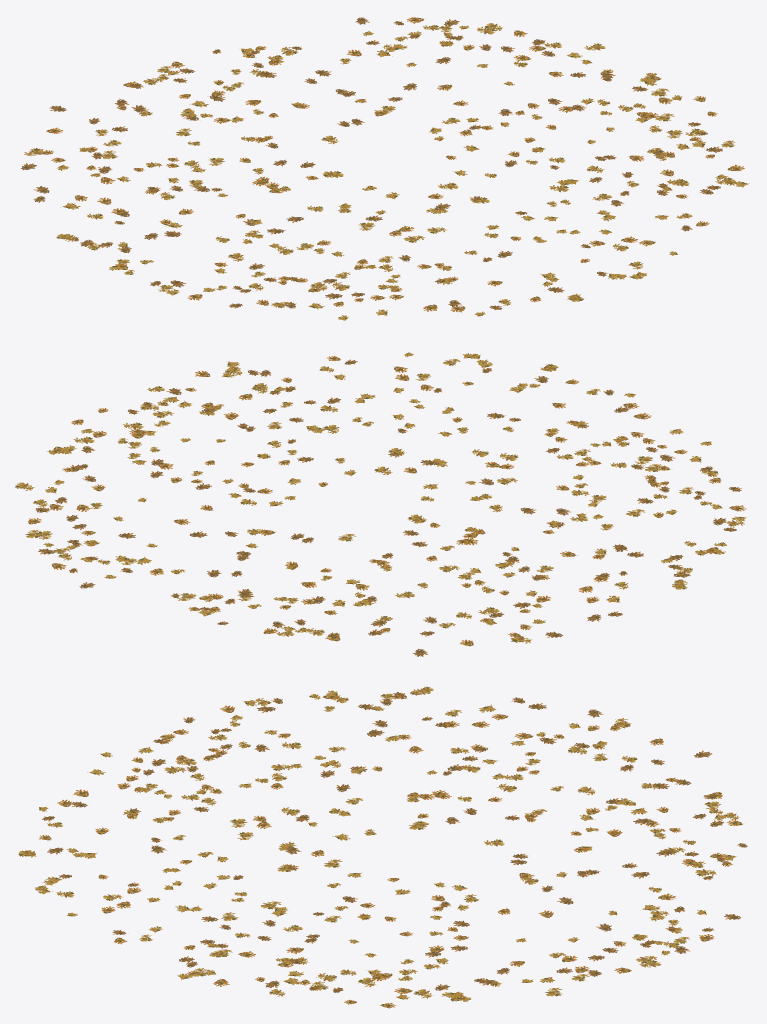
File: chataignier_adulte_d.fbx
3 views of the same model, one above another, from view 1: azimuth 30°, elevation 25°; view 2: azimuth 150°, elevation 25°; view 3: azimuth 270°, elevation 25° (orthographic). The views are drawn at different scales.
Parts seen in each view (by area): view 1: chataignier_adulte_d_feuilles_sol; view 2: chataignier_adulte_d_feuilles_sol; view 3: chataignier_adulte_d_feuilles_sol.
Boxes of the visible parts, x1,y1,x2,y2 form: chataignier_adulte_d_feuilles_sol: (21,17,749,320); chataignier_adulte_d_feuilles_sol: (15,352,746,656); chataignier_adulte_d_feuilles_sol: (18,686,747,1008).
Size of what is drawn, in the model's own units: 16.49 by 0.00598 by 15.87.
